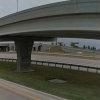Bridge: (4, 2, 99, 56)
